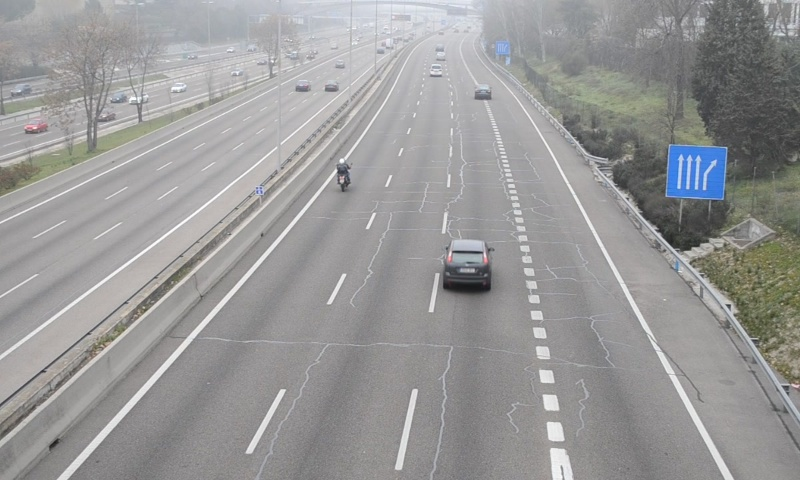car: (442, 240, 492, 287), (474, 85, 490, 99), (430, 64, 442, 77)
motorcycle: (333, 157, 352, 194)
